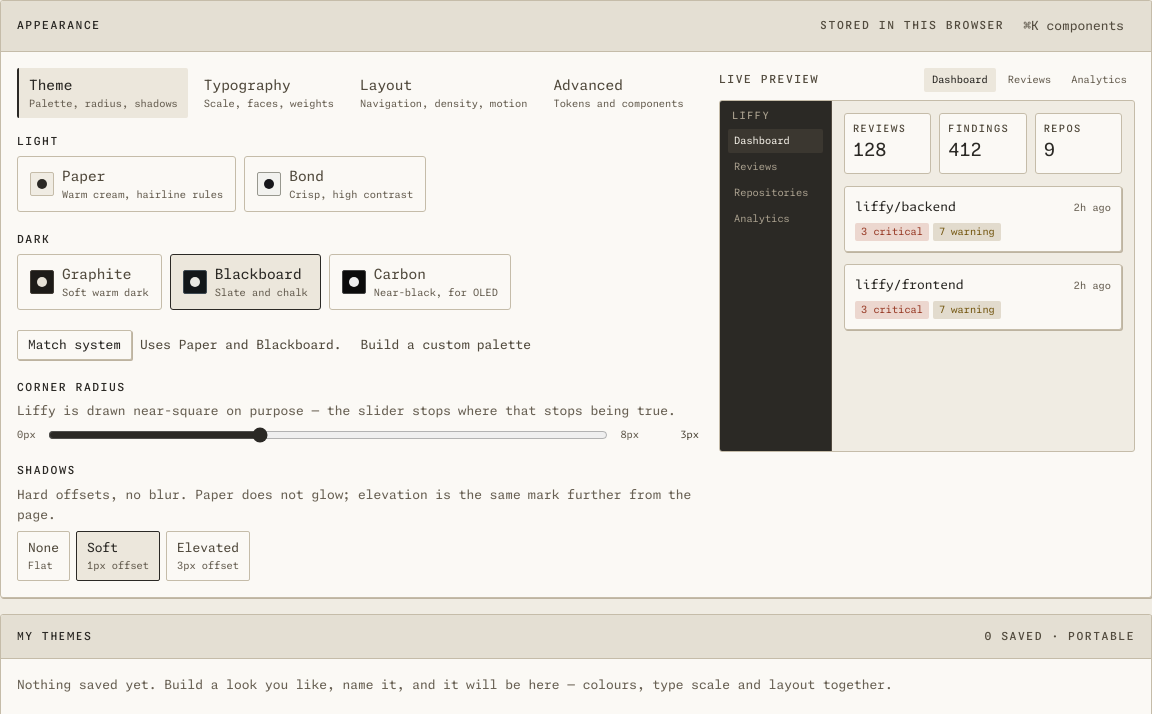
Appearance › resets the visible palette on delete, instead of leaving the deleted one on screen
Click the button "Build a custom palette" at (446, 345), box [350,330,542,360]
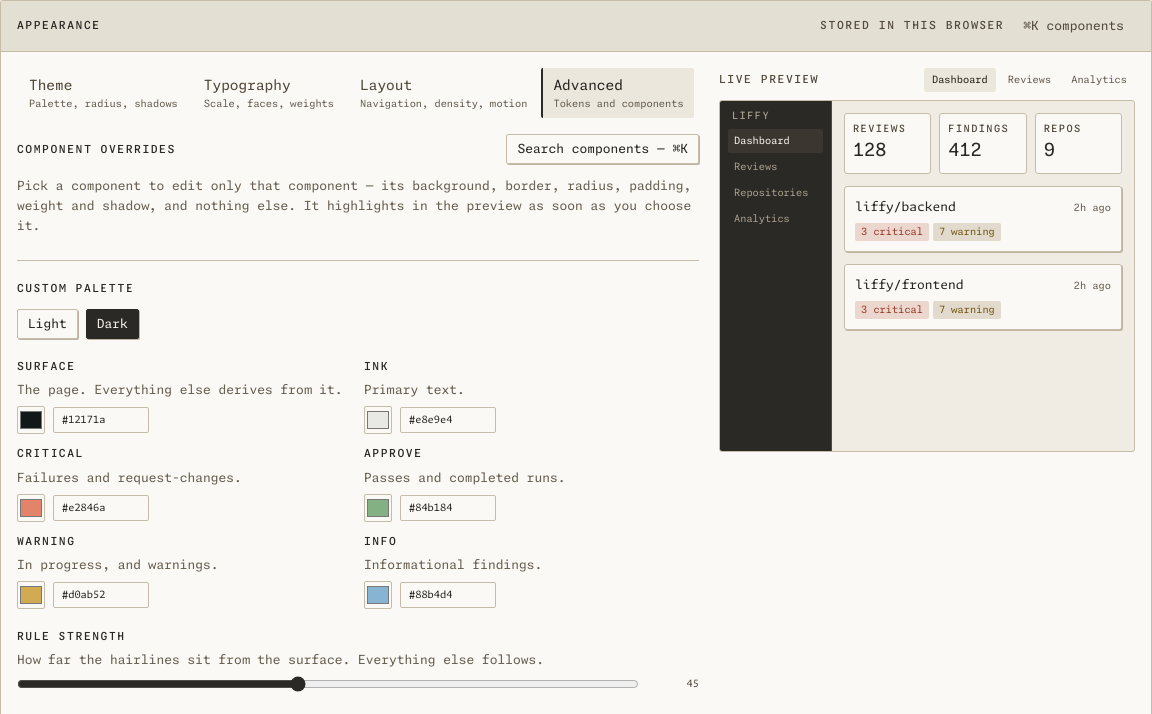
Clear the field named "Ink hex" at (448, 420), box [400,407,496,433]
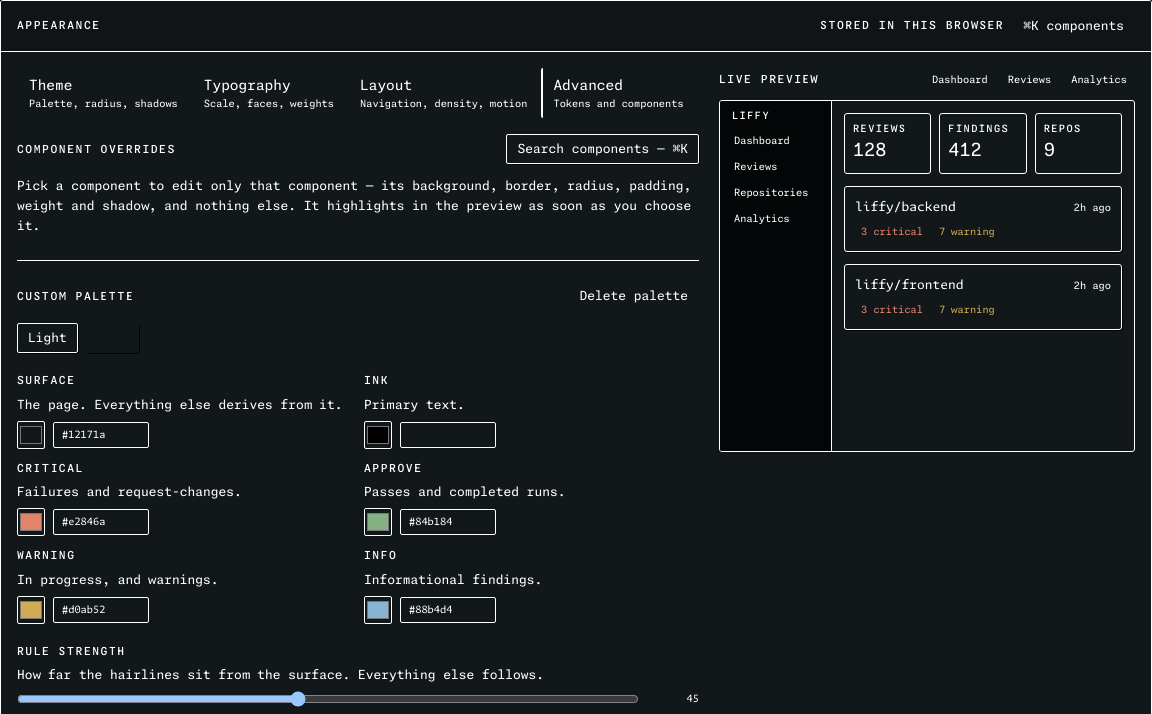
Type "#123456" into the field named "Ink hex" at (448, 435), box [400,422,496,448]
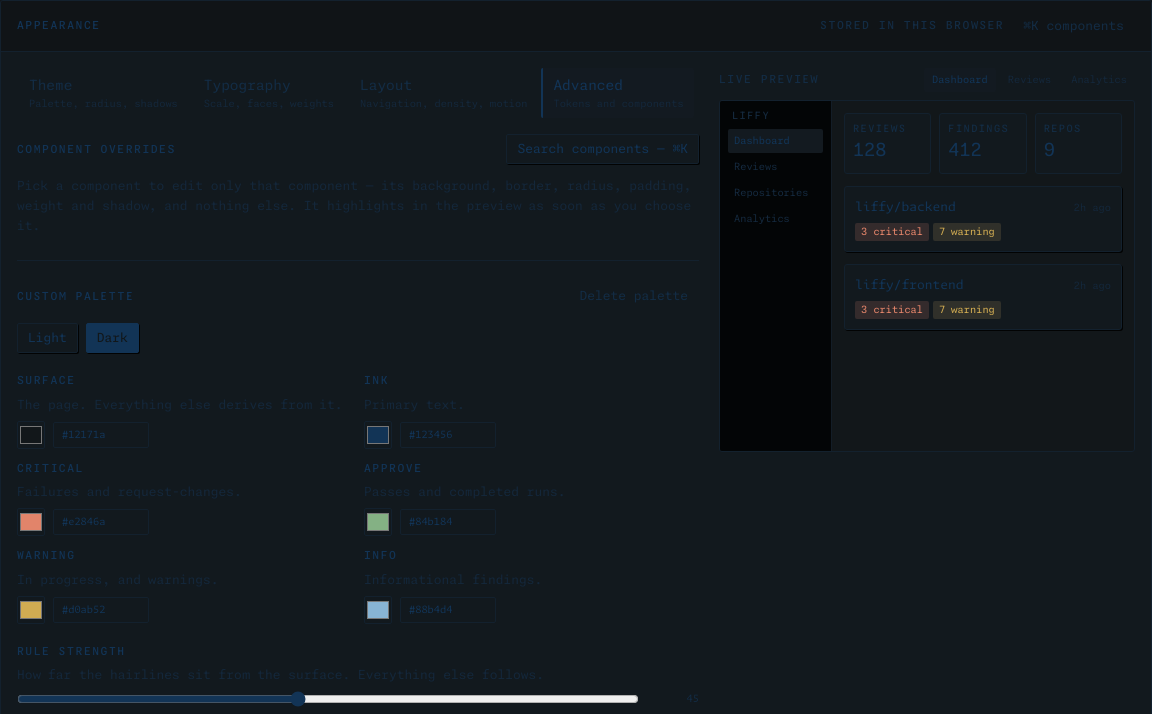
Click the button "Delete palette" at (634, 296), box [568,281,699,311]
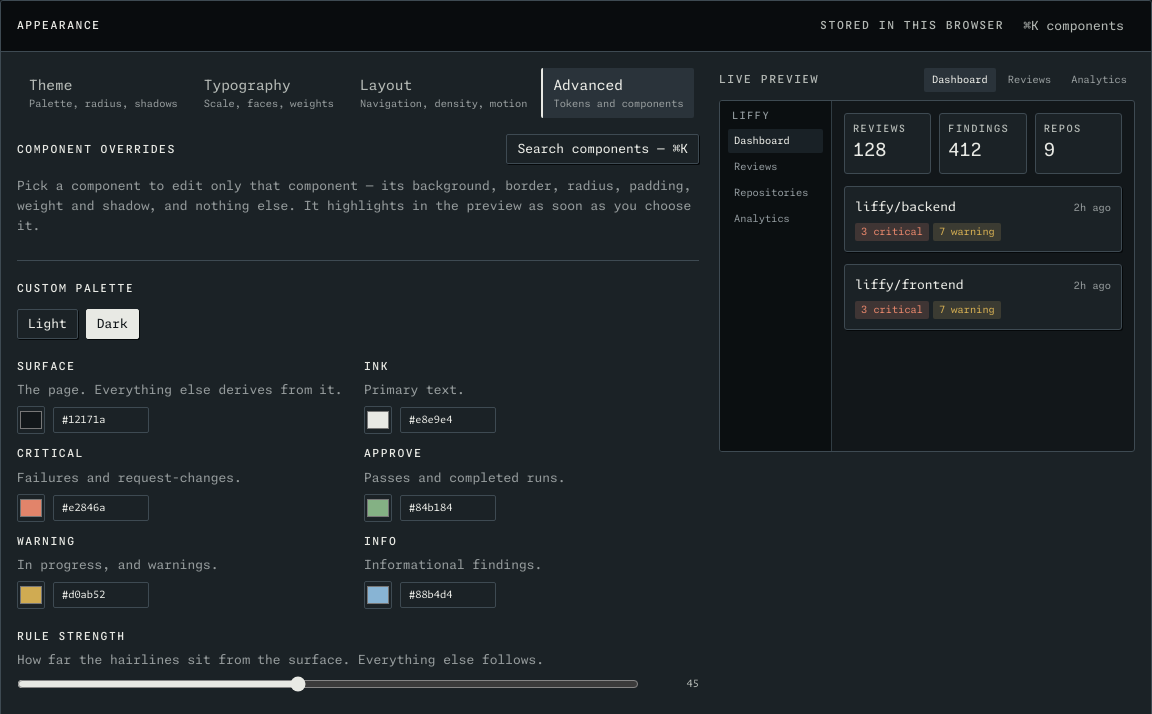
Now the field named "Ink hex" holds "#e8e9e4", box [400,407,496,433]
